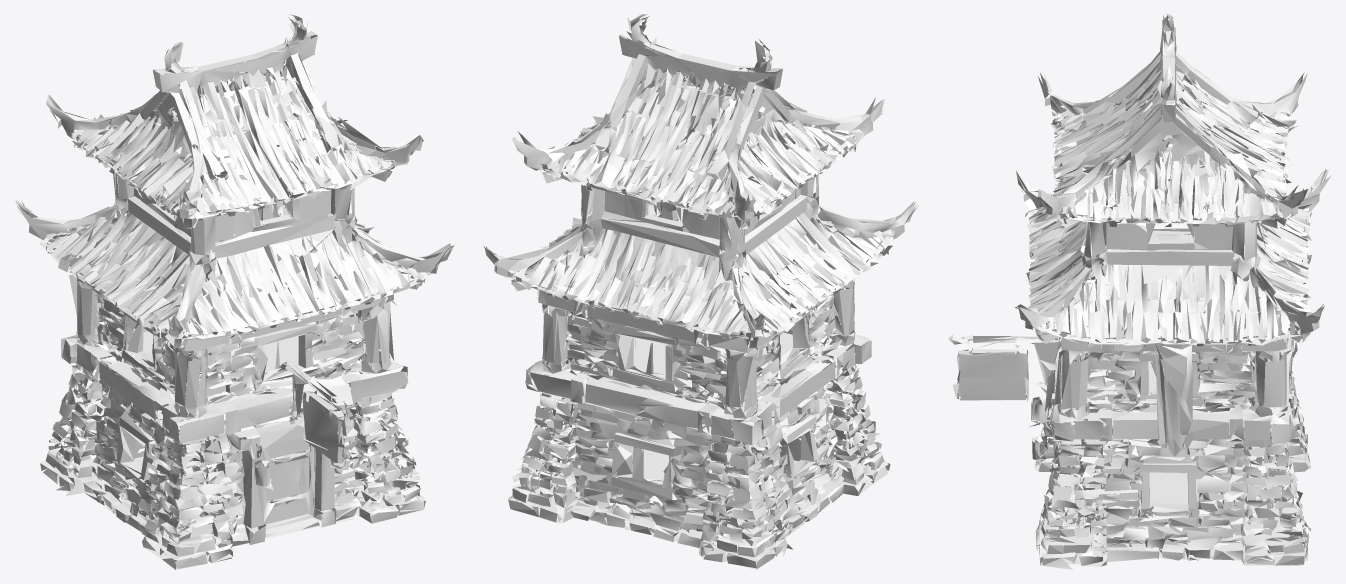
File: house_stone_b_lod1.glb
The picture shows the model from 3 angles, left to right: view 1: azimuth 30°, elevation 25°; view 2: azimuth 150°, elevation 25°; view 3: azimuth 270°, elevation 25°; orthographic projection.
Visible parts, largest first — view 1: house_stone_b; view 2: house_stone_b; view 3: house_stone_b.
Boxes of the visible parts, x1,y1,x2,y2 form: house_stone_b: [14, 14, 454, 569]; house_stone_b: [483, 14, 918, 569]; house_stone_b: [948, 14, 1331, 569].
Size of the model in its own units: 7.12 by 11.09 by 8.26.
1 material, 1 textured.
